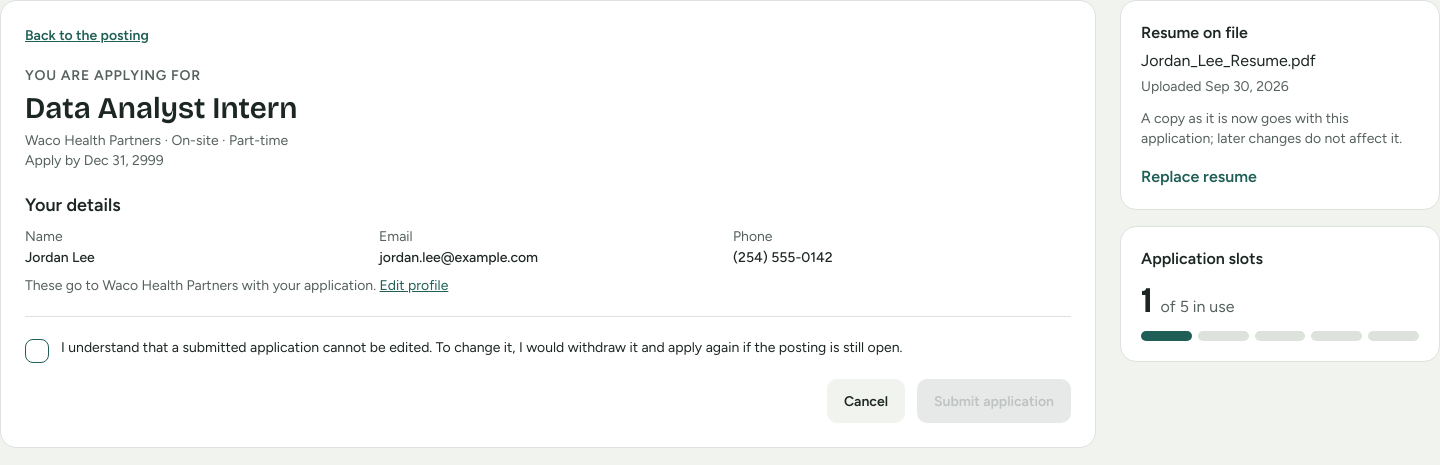
Test: ApplyForm › submits only after the applicant acknowledges that it cannot be edited (FR-UC04.2)
Expected: the button "Submit application" is disabled, [917,379,1071,423]
Step 1. Click the checkbox → coordinates (37, 351), box [25,339,49,363]
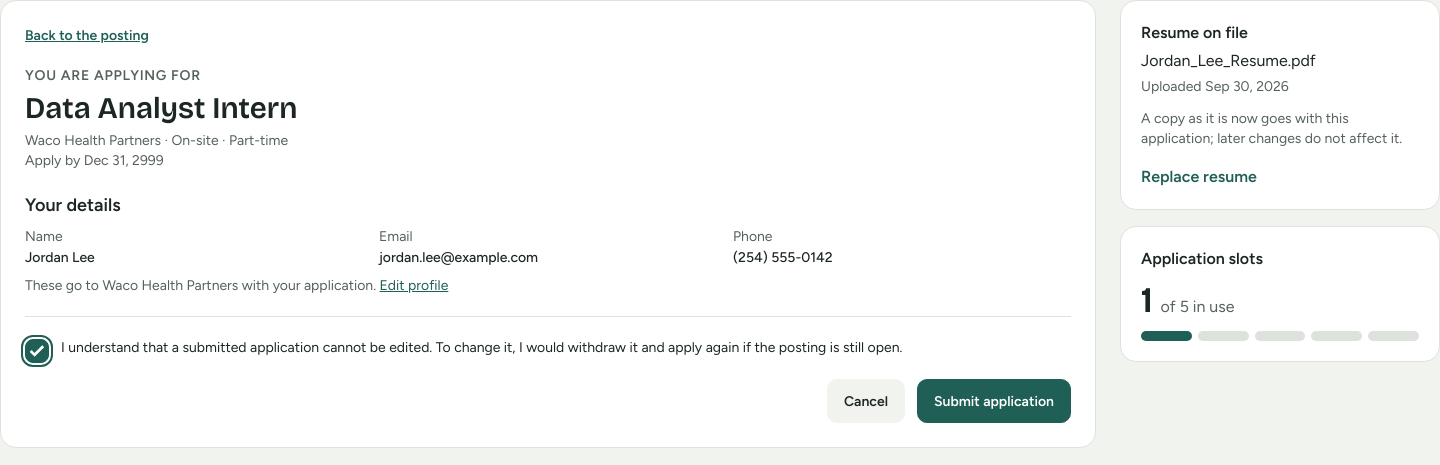
Result: the button "Submit application" is enabled at [917,379,1071,423]
